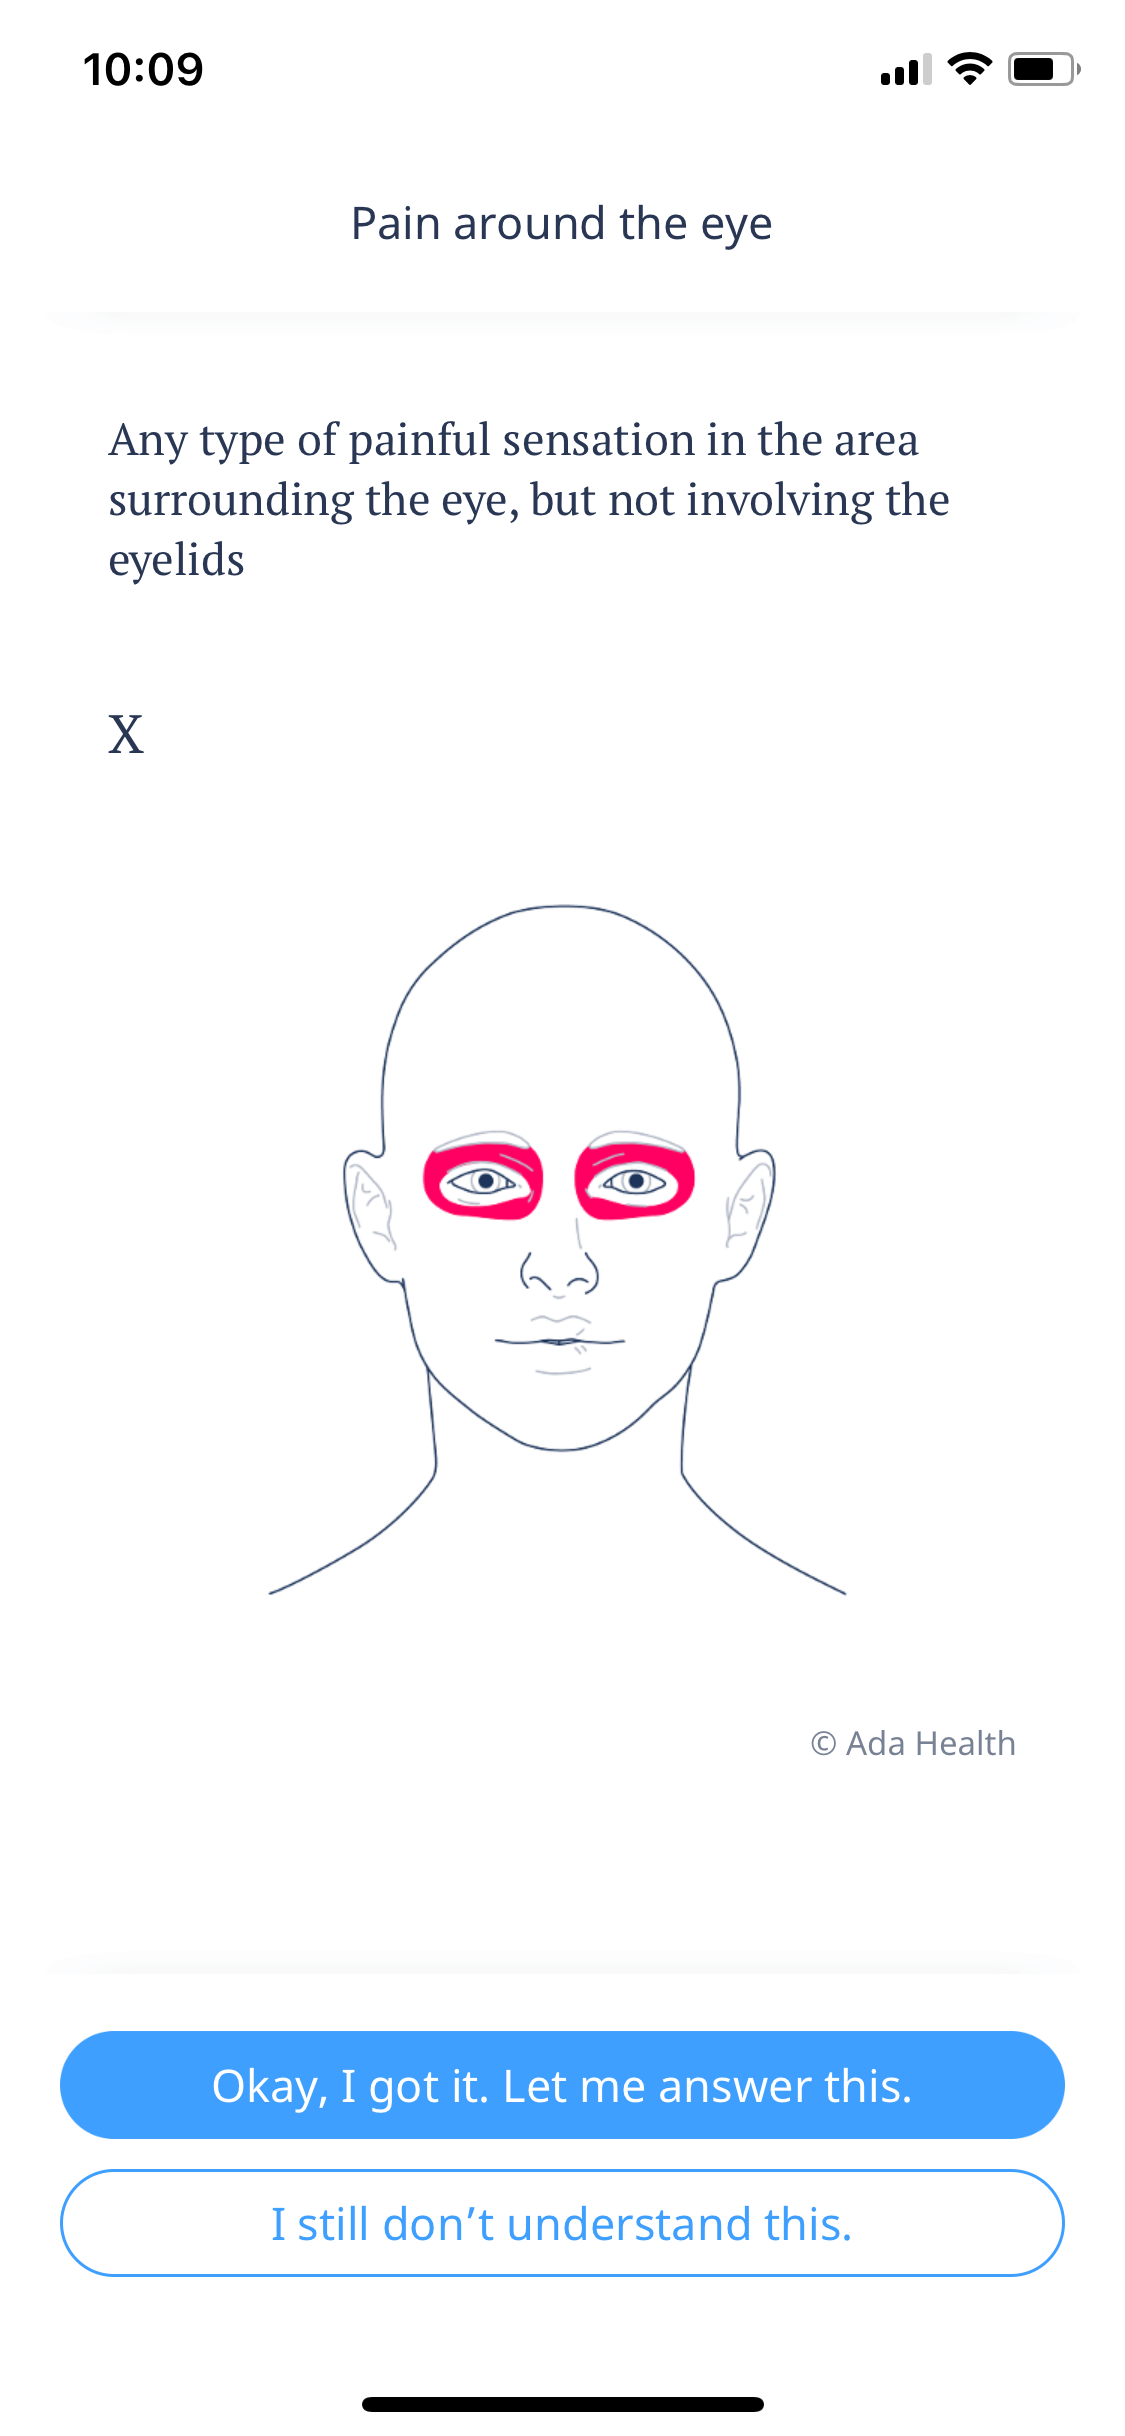Buttons: (50, 2155, 1071, 2298), (57, 2021, 1071, 2147)
